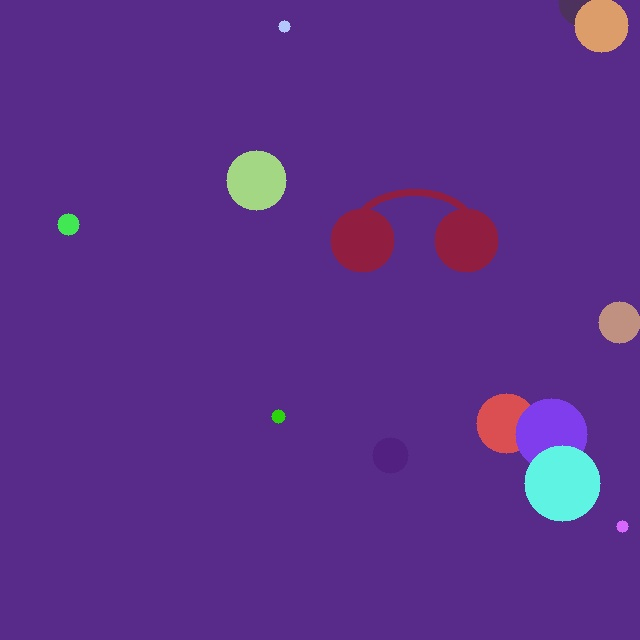over_ear: (326, 174, 502, 276)
